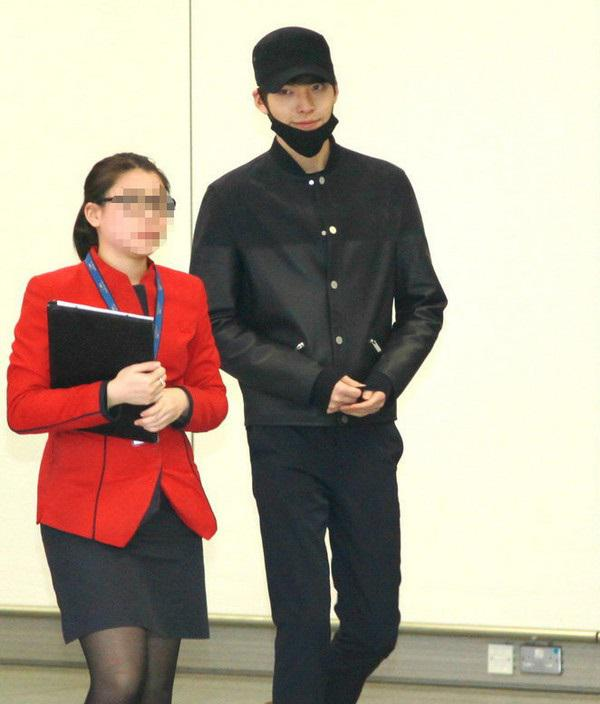WRONG: (269, 81, 344, 150)
